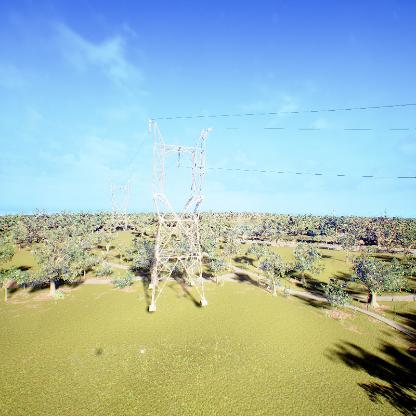tower: (144, 111, 215, 316)
